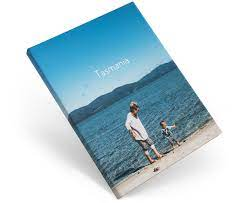book: (25, 1, 222, 200)
